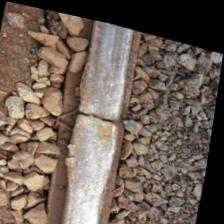person: (60, 72, 139, 151)
